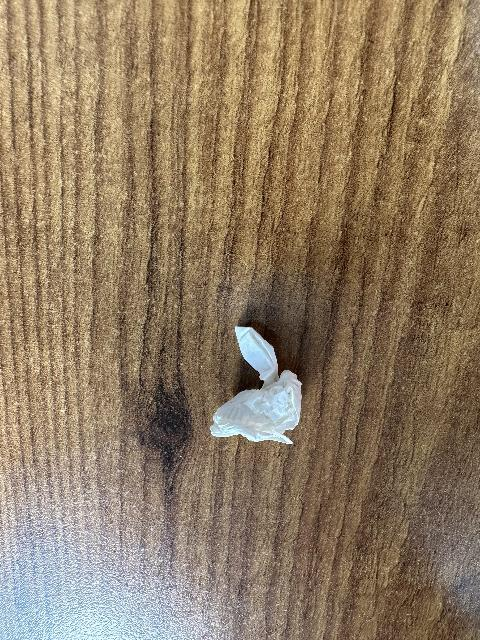Kagit: (206, 319, 306, 451)
